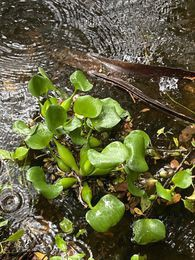water_hyacinth: (15, 62, 195, 247)
